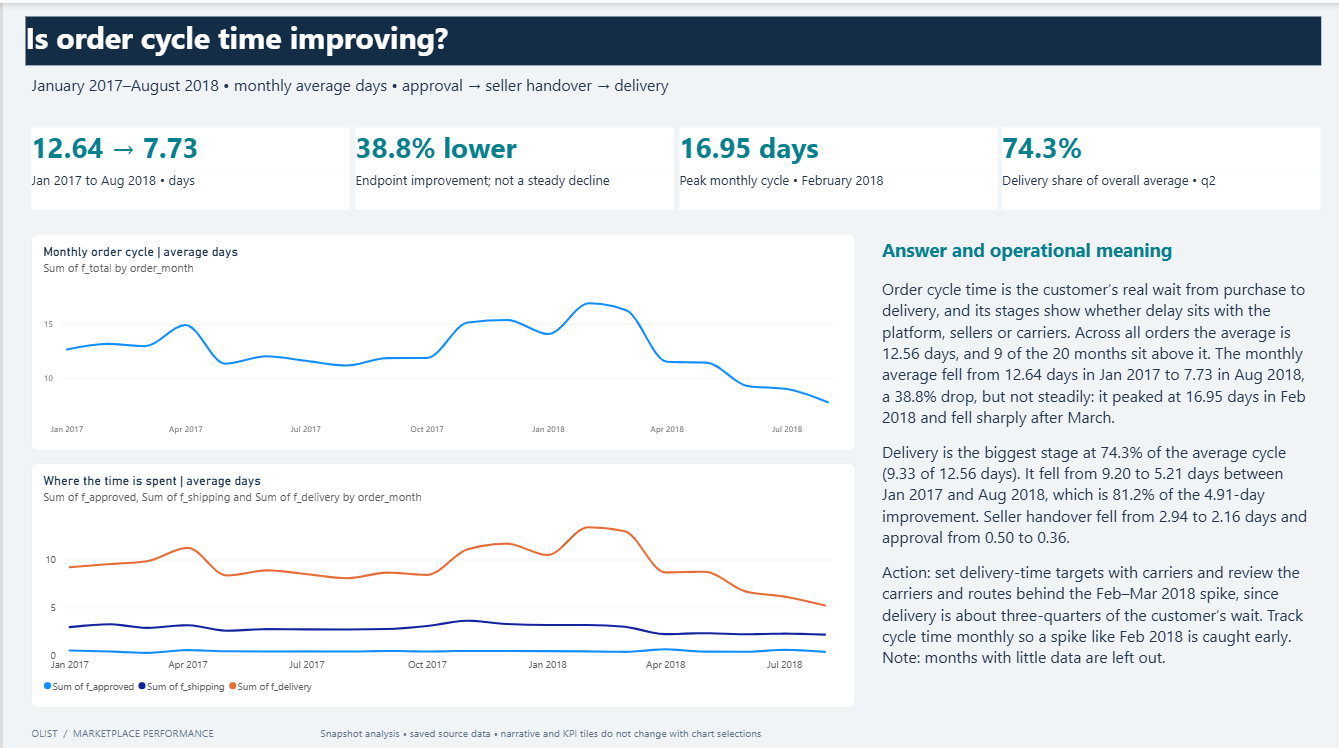

The dashboard page shown, as its layout file describes it:
{"tool":"powerbi","page":{"name":"02 | Delivery trend","canvas":[1920,1080],"ordinal":1},"visuals":[{"type":"textbox","box":[32,20,1856,70],"z":0},{"type":"textbox","box":[40,100,1840,62],"z":1000},{"type":"textbox","box":[40,1035,1840,30],"z":2000},{"type":"textbox","box":[40,178,456,62],"z":3000},{"type":"textbox","box":[40,240,456,55],"z":4000},{"type":"textbox","box":[504,178,456,62],"z":5000},{"type":"textbox","box":[504,240,456,55],"z":6000},{"type":"textbox","box":[968,178,456,62],"z":7000},{"type":"textbox","box":[968,240,456,55],"z":8000},{"type":"textbox","box":[1432,178,456,62],"z":9000},{"type":"textbox","box":[1432,240,456,55],"z":10000},{"type":"lineChart","title":"Monthly order cycle | average days","fields":{"Category":["public q2_monthly_ocv.order_month"],"Y":["Sum(public q2_monthly_ocv.f_total)"]},"box":[40,330,1180,310],"z":11000},{"type":"lineChart","title":"Where the time is spent | average days","fields":{"Category":["public q2_monthly_ocv.order_month"],"Y":["Sum(public q2_monthly_ocv.f_approved)","Sum(public q2_monthly_ocv.f_shipping)","Sum(public q2_monthly_ocv.f_delivery)"]},"box":[40,660,1180,350],"z":12000},{"type":"textbox","box":[1260,335,610,48],"z":13000},{"type":"textbox","box":[1260,393,610,592],"z":14000}]}

Visuals, with their boxes in screenshot pixels (x1, y1, x2, y2), scaled from the page's 1920x1080 canvas onto the 1339x748 screenshot:
textbox: select_region(22, 14, 1317, 62)
textbox: select_region(28, 69, 1311, 112)
textbox: select_region(28, 717, 1311, 738)
textbox: select_region(28, 123, 346, 166)
textbox: select_region(28, 166, 346, 204)
textbox: select_region(351, 123, 670, 166)
textbox: select_region(351, 166, 670, 204)
textbox: select_region(675, 123, 993, 166)
textbox: select_region(675, 166, 993, 204)
textbox: select_region(999, 123, 1317, 166)
textbox: select_region(999, 166, 1317, 204)
"Monthly order cycle | average days" lineChart: select_region(28, 229, 851, 443)
"Where the time is spent | average days" lineChart: select_region(28, 457, 851, 700)
textbox: select_region(879, 232, 1304, 265)
textbox: select_region(879, 272, 1304, 682)
